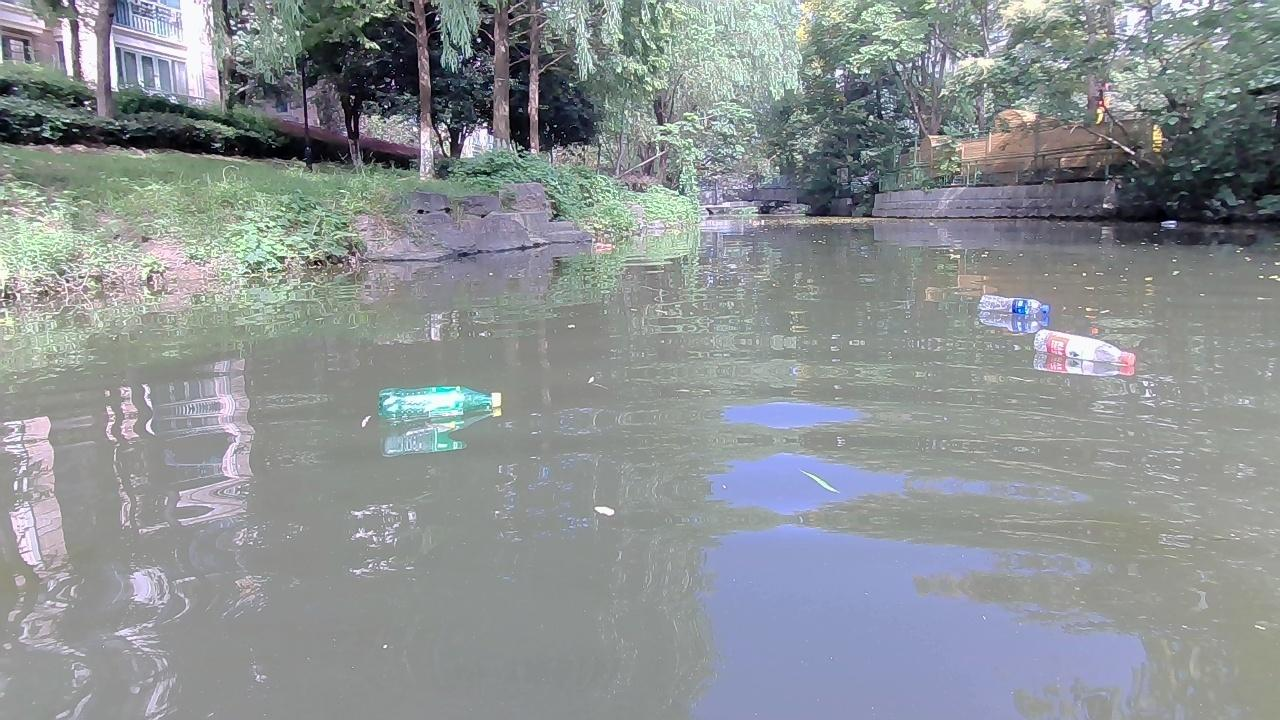bottle: (1032, 323, 1136, 369), (374, 386, 507, 421), (977, 294, 1055, 318), (591, 242, 619, 251), (1156, 217, 1178, 227)
